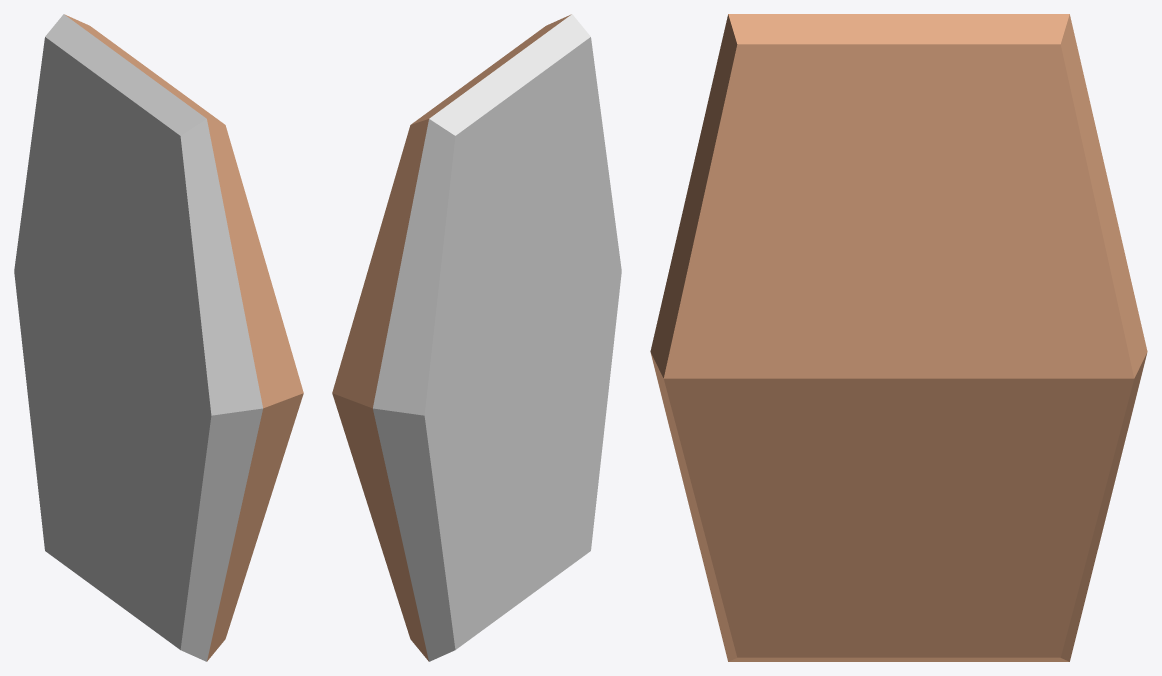
File: Light.fbx
3 renders of one model, left to right at view 1: azimuth 30°, elevation 25°; view 2: azimuth 150°, elevation 25°; view 3: azimuth 270°, elevation 25°, orthographic. The views are drawn at different scales.
Visible parts, largest first — view 1: Cube; view 2: Cube; view 3: Cube.
Boxes of the visible parts, x1,y1,x2,y2 form: Cube: (14, 14, 303, 661); Cube: (332, 14, 621, 661); Cube: (650, 14, 1147, 661).
Bounding box in the file's own units: 0.3762 × 2.11 × 1.47.
